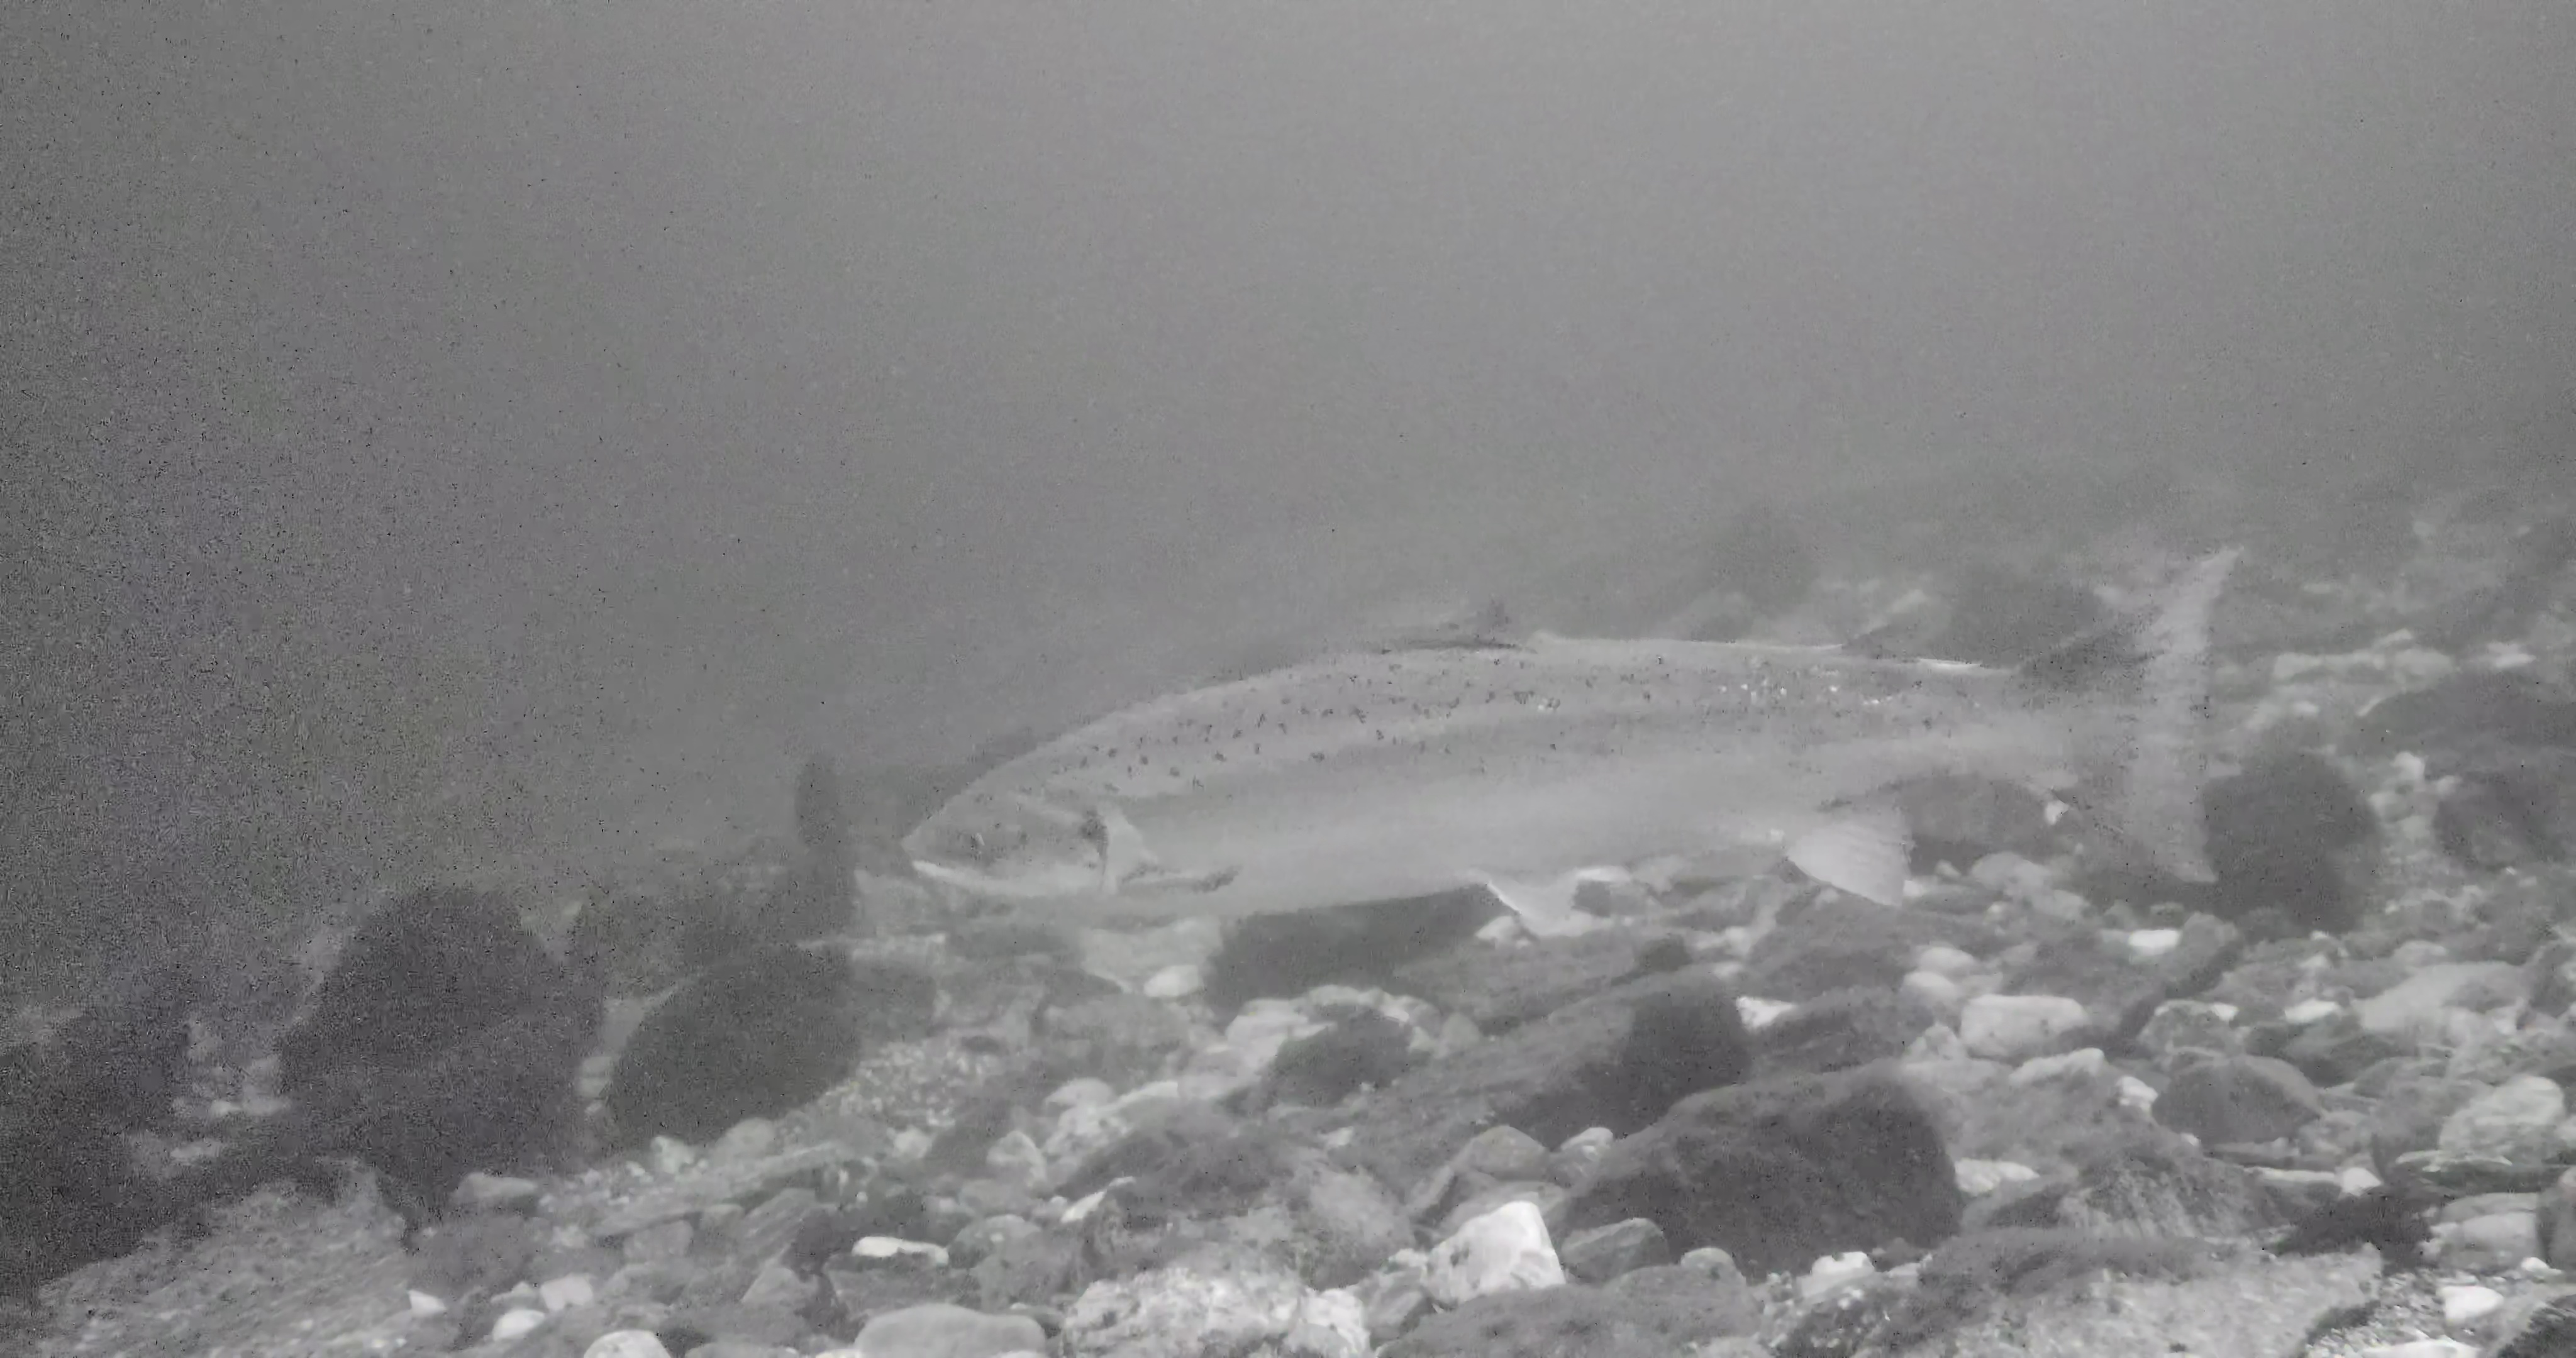salmon: (898, 542, 2251, 930)
